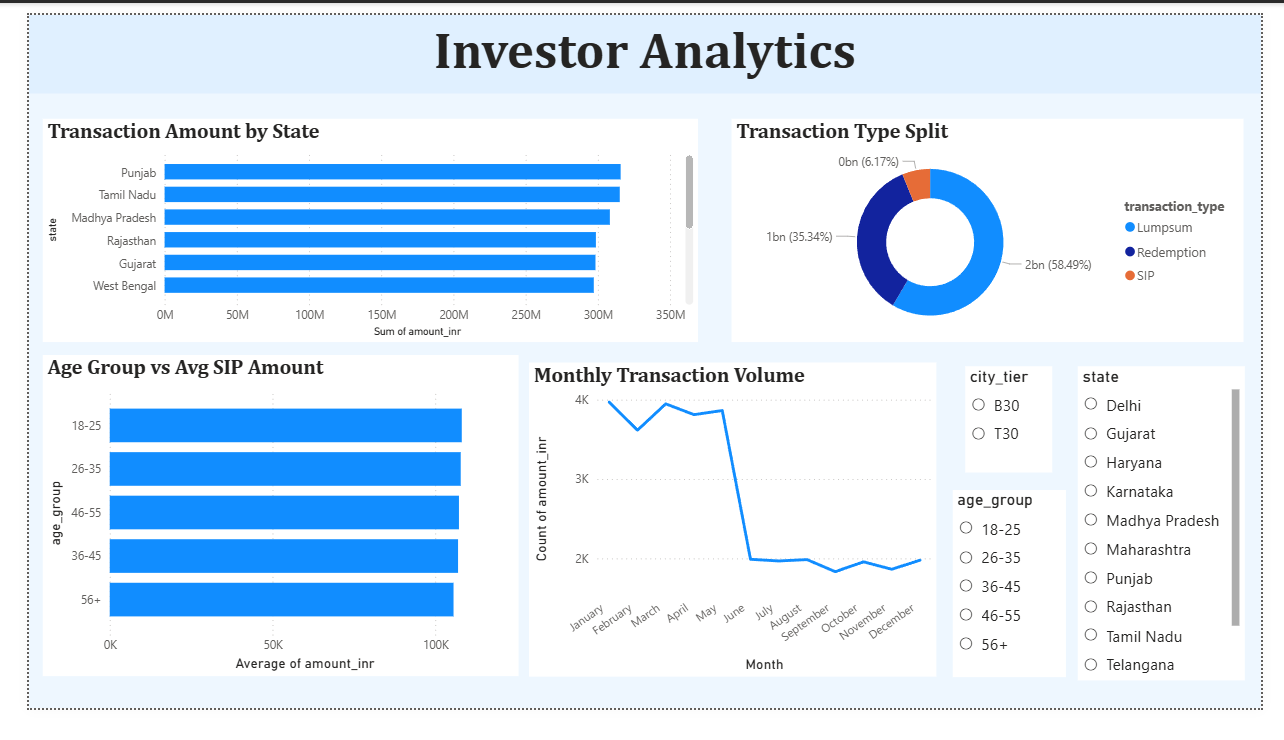

The dashboard page shown, as its layout file describes it:
{"tool":"powerbi","page":{"name":"Investor Analytics","canvas":[1280,720],"ordinal":2},"visuals":[{"type":"textbox","box":[0,0,1279.7,81.4],"z":0},{"type":"clusteredBarChart","title":"Transaction Amount by State","fields":{"Category":["08_investor_transactions.state"],"Y":["Sum(08_investor_transactions.amount_inr)"]},"box":[14.3,107.1,681,232.1],"z":1},{"type":"donutChart","title":"Transaction Type Split","fields":{"Category":["08_investor_transactions.transaction_type"],"Y":["Sum(08_investor_transactions.amount_inr)"]},"box":[730.4,107.1,532.1,232.1],"z":2},{"type":"clusteredBarChart","title":"Age Group vs Avg SIP Amount","fields":{"Category":["08_investor_transactions.age_group"],"Y":["Avg(08_investor_transactions.amount_inr)"]},"box":[14.3,353.6,494.6,333.9],"z":3},{"type":"lineChart","title":"Monthly Transaction Volume","fields":{"Category":["08_investor_transactions.transaction_date.Variation.Date Hierarchy.Month"],"Y":["CountNonNull(08_investor_transactions.amount_inr)"]},"box":[519.6,360.7,423.2,326.8],"z":4},{"type":"listSlicer","fields":{"Values":["08_investor_transactions.state"]},"box":[1089.3,364.3,173.2,326.8],"z":5},{"type":"listSlicer","fields":{"Values":["08_investor_transactions.age_group"]},"box":[959.5,492.9,117.9,194],"z":6},{"type":"listSlicer","fields":{"Values":["08_investor_transactions.city_tier"]},"box":[972.6,364.3,90.5,110.7],"z":7}]}

Visuals, with their boxes in screenshot pixels (x1, y1, x2, y2), scaled from the page's 1280x720 canvas onto the 1284x740 screenshot:
textbox: (0,0,1283,84)
"Transaction Amount by State" clusteredBarChart: (14,110,697,349)
"Transaction Type Split" donutChart: (733,110,1266,349)
"Age Group vs Avg SIP Amount" clusteredBarChart: (14,363,510,707)
"Monthly Transaction Volume" lineChart: (521,371,946,707)
listSlicer - 08_investor_transactions.state: (1093,374,1266,710)
listSlicer - 08_investor_transactions.age_group: (962,507,1081,706)
listSlicer - 08_investor_transactions.city_tier: (976,374,1066,488)
